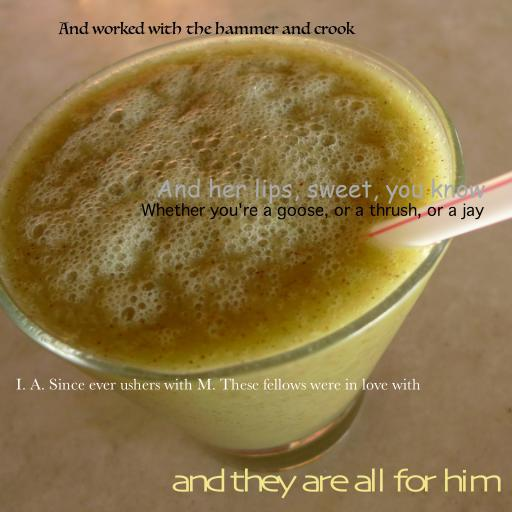Baskerville: (15, 378, 421, 390)
Comic Sans MS: (155, 178, 485, 204)
Geneva: (140, 203, 484, 220)
Luminari: (58, 21, 354, 35)
Skia: (170, 468, 496, 499)
